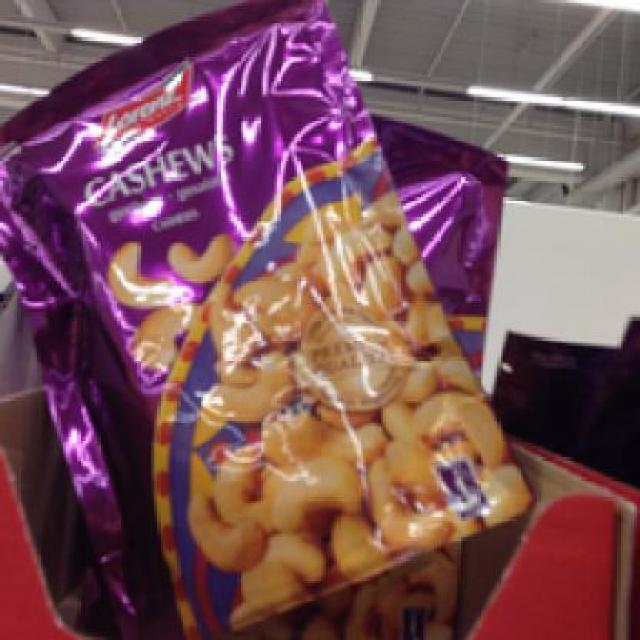Nuts: (0, 0, 535, 635)
